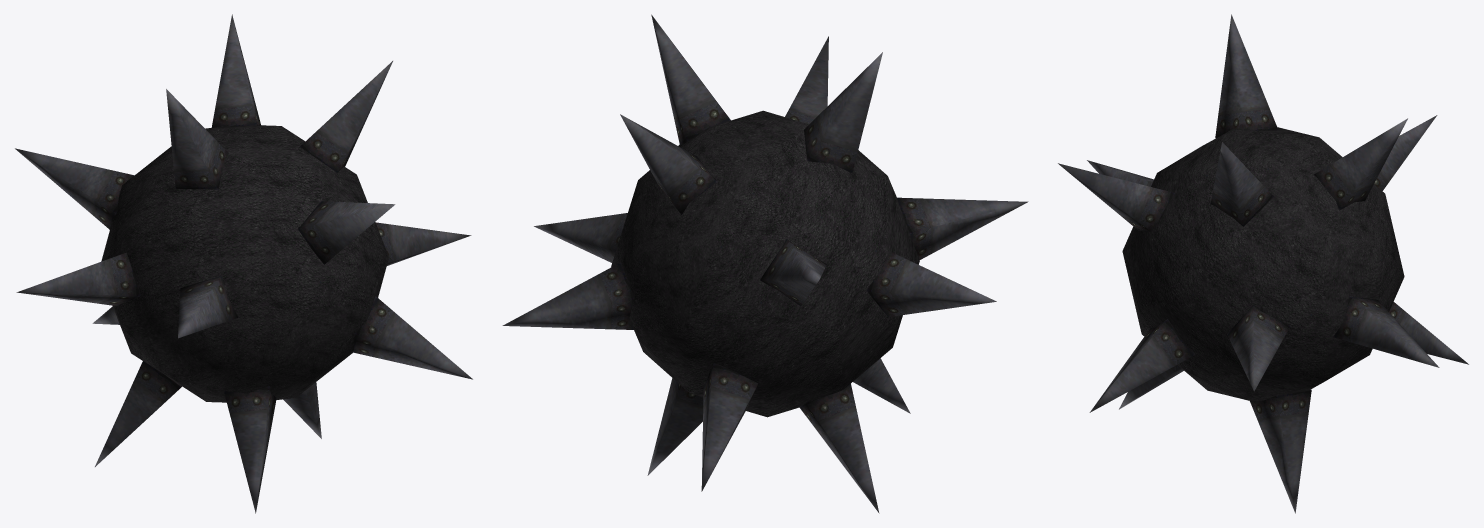
Rendered from Thorn Ball.obj.
3 views of the same model, side by side, from view 1: azimuth 30°, elevation 25°; view 2: azimuth 150°, elevation 25°; view 3: azimuth 270°, elevation 25° (orthographic). The views are drawn at different scales.
Parts seen in each view (by area): view 1: cmn_obj_thornball_HD_cmn_obj_thornball_HD_mesh; view 2: cmn_obj_thornball_HD_cmn_obj_thornball_HD_mesh; view 3: cmn_obj_thornball_HD_cmn_obj_thornball_HD_mesh.
Part boxes in pixels (x1,y1,x2,y2): cmn_obj_thornball_HD_cmn_obj_thornball_HD_mesh: (15, 14, 472, 513); cmn_obj_thornball_HD_cmn_obj_thornball_HD_mesh: (502, 14, 1028, 513); cmn_obj_thornball_HD_cmn_obj_thornball_HD_mesh: (1058, 14, 1468, 513).
Bounding box in the file's own units: 2.28 × 2.06 × 1.88.
3 materials, 3 textured.
